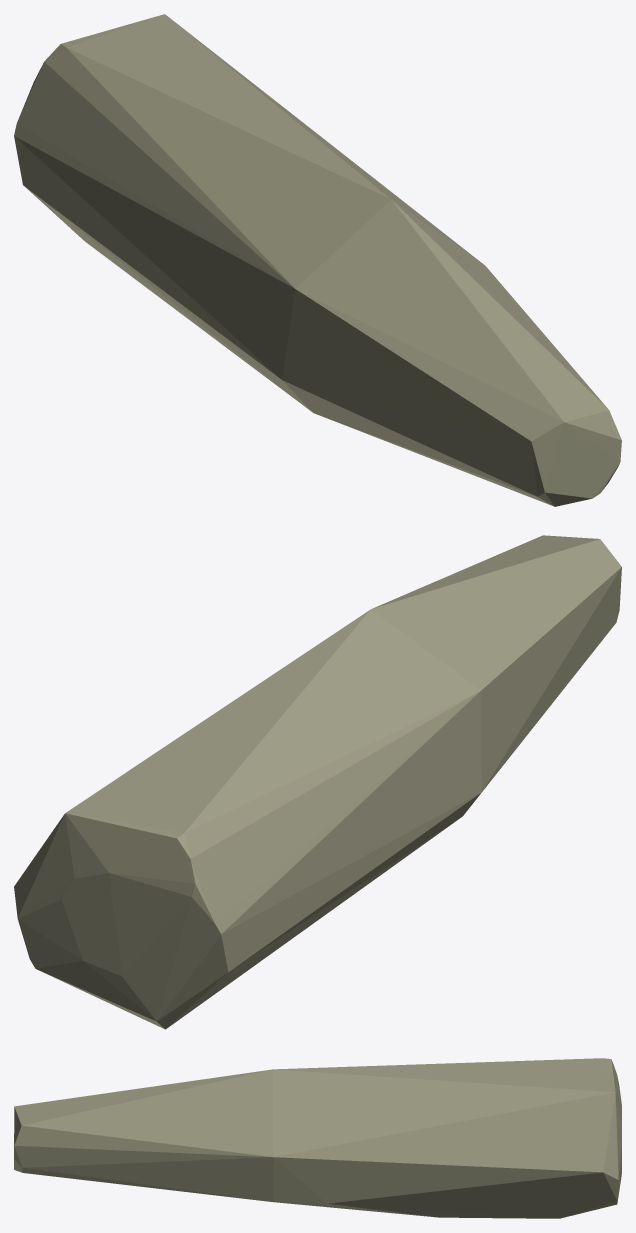
The model's file is food_beverage_beerBottle_i01.glb.
3 renders of one model, top to bottom at view 1: azimuth 30°, elevation 25°; view 2: azimuth 150°, elevation 25°; view 3: azimuth 270°, elevation 25°, orthographic. The views are drawn at different scales.
Parts seen in each view (by area): view 1: geometry_0; view 2: geometry_0; view 3: geometry_0.
Boxes of the visible parts, x1,y1,x2,y2 form: geometry_0: [14, 14, 621, 506]; geometry_0: [14, 535, 621, 1029]; geometry_0: [14, 1058, 621, 1218].
Bounding box in the file's own units: 0.1256 × 0.1219 × 0.48.
